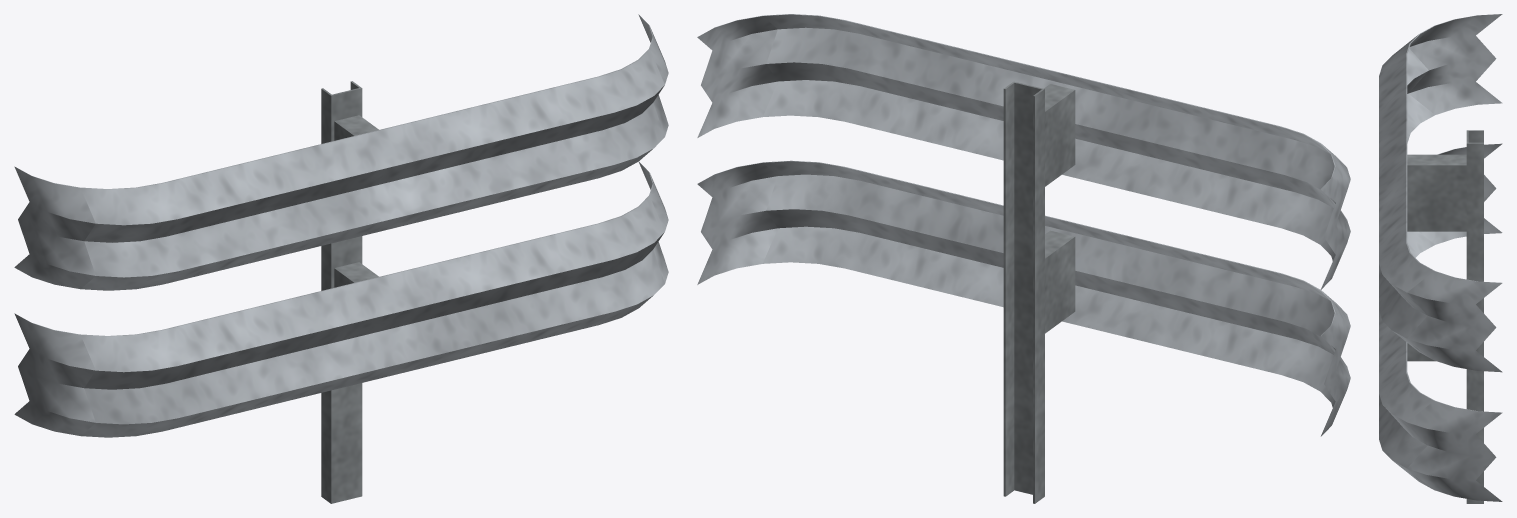
The model's file is vangrail_end.glb.
3 renders of one model, left to right at view 1: azimuth 30°, elevation 25°; view 2: azimuth 150°, elevation 25°; view 3: azimuth 270°, elevation 25°, orthographic. The views are drawn at different scales.
Visible parts, largest first — view 1: vangrail_end; view 2: vangrail_end; view 3: vangrail_end.
Boxes of the visible parts, x1,y1,x2,y2 form: vangrail_end: (14, 14, 668, 503); vangrail_end: (697, 14, 1350, 503); vangrail_end: (1379, 14, 1502, 503).
Bounding box in the file's own units: 2 × 1.25 × 0.389.
2 materials, 2 textured.
